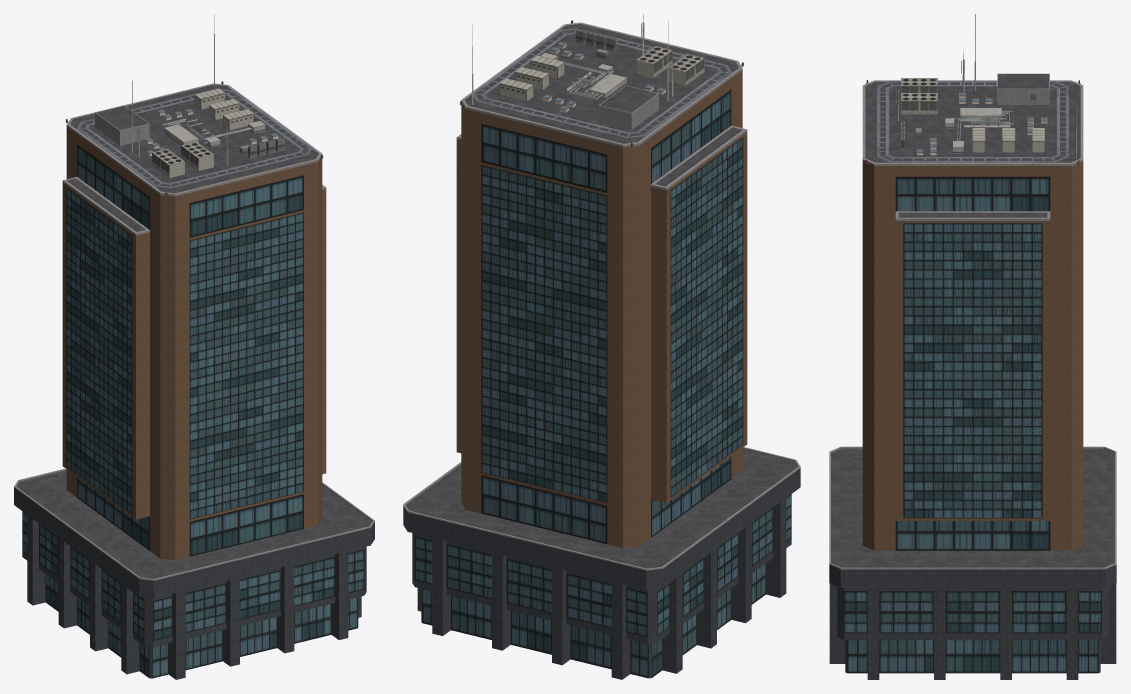
File: building_Bb.FBX
3 renders of one model, left to right at view 1: azimuth 30°, elevation 25°; view 2: azimuth 150°, elevation 25°; view 3: azimuth 270°, elevation 25°, orthographic. The views are drawn at different scales.
Parts seen in each view (by area): view 1: building_Bb; view 2: building_Bb; view 3: building_Bb.
Part boxes in pixels (x1,y1,x2,y2): building_Bb: (14, 14, 374, 679); building_Bb: (403, 14, 800, 679); building_Bb: (829, 14, 1116, 679).
Size of what is drawn, in the model's own units: 1949 by 1949 by 4289.
